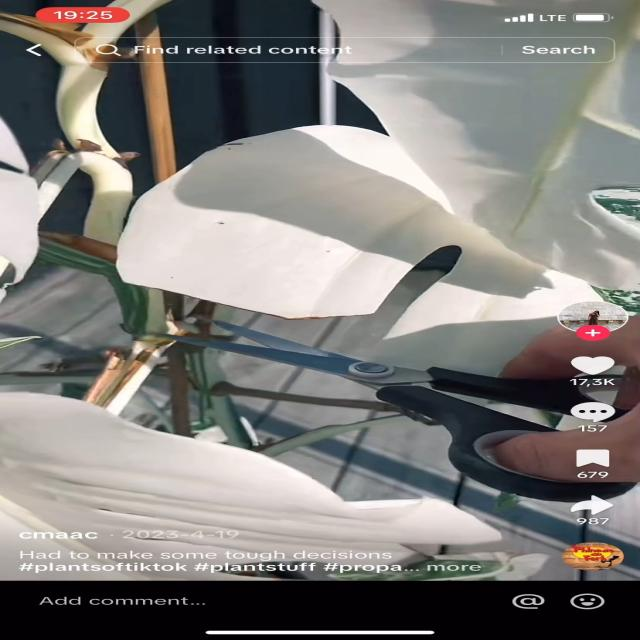lisc_variegata: (114, 124, 611, 341), (0, 392, 553, 582), (312, 0, 640, 293), (0, 117, 40, 303), (591, 227, 640, 314), (595, 189, 640, 227)
